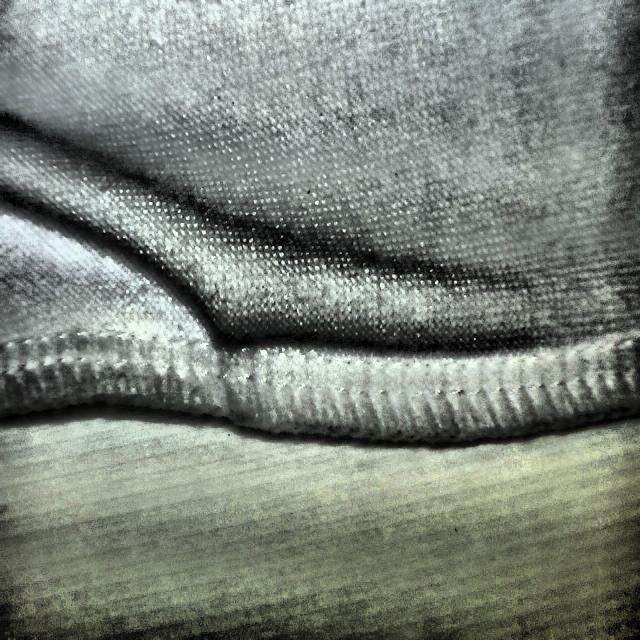seam: (131, 215, 375, 441)
